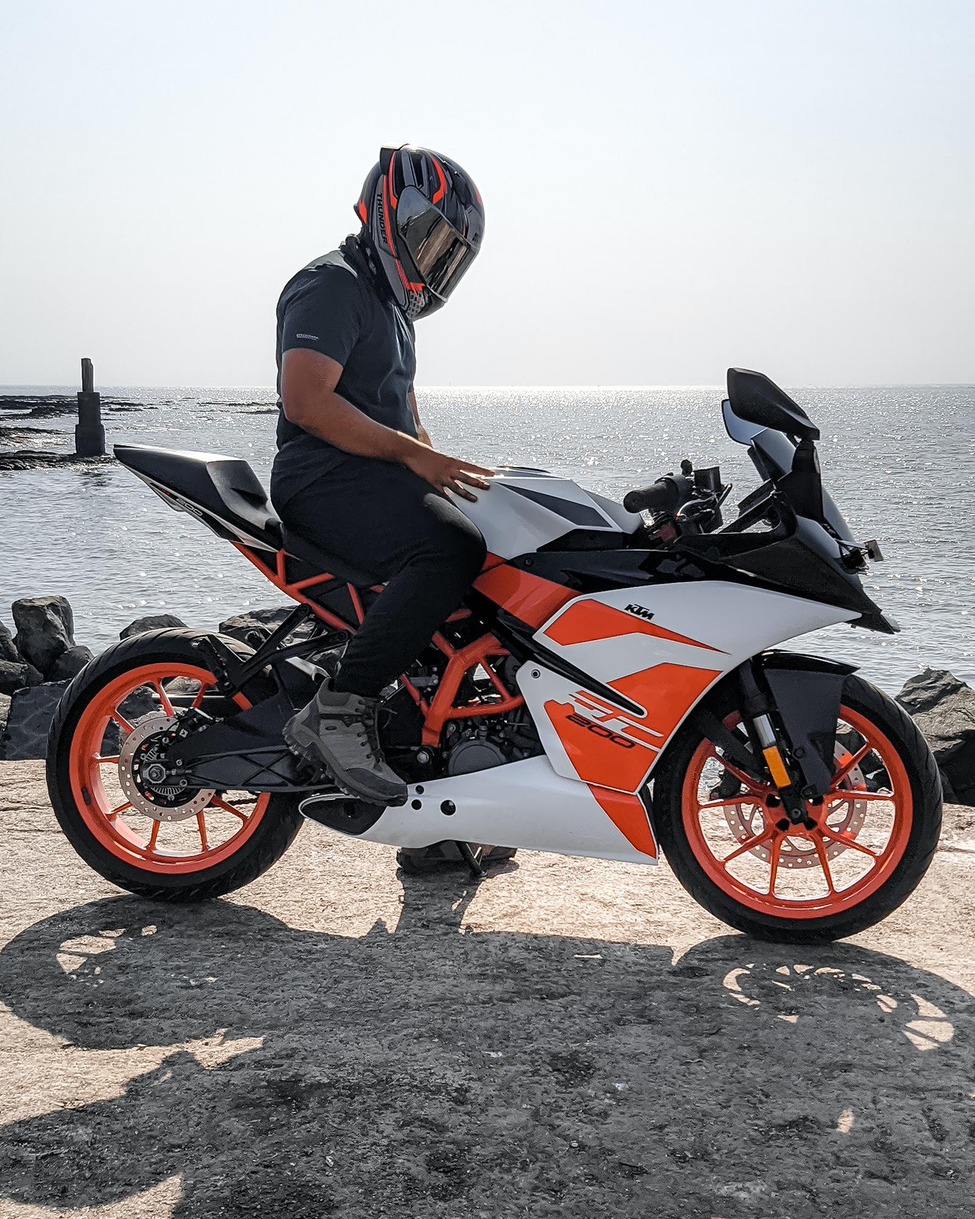helmet: (352, 139, 486, 325)
